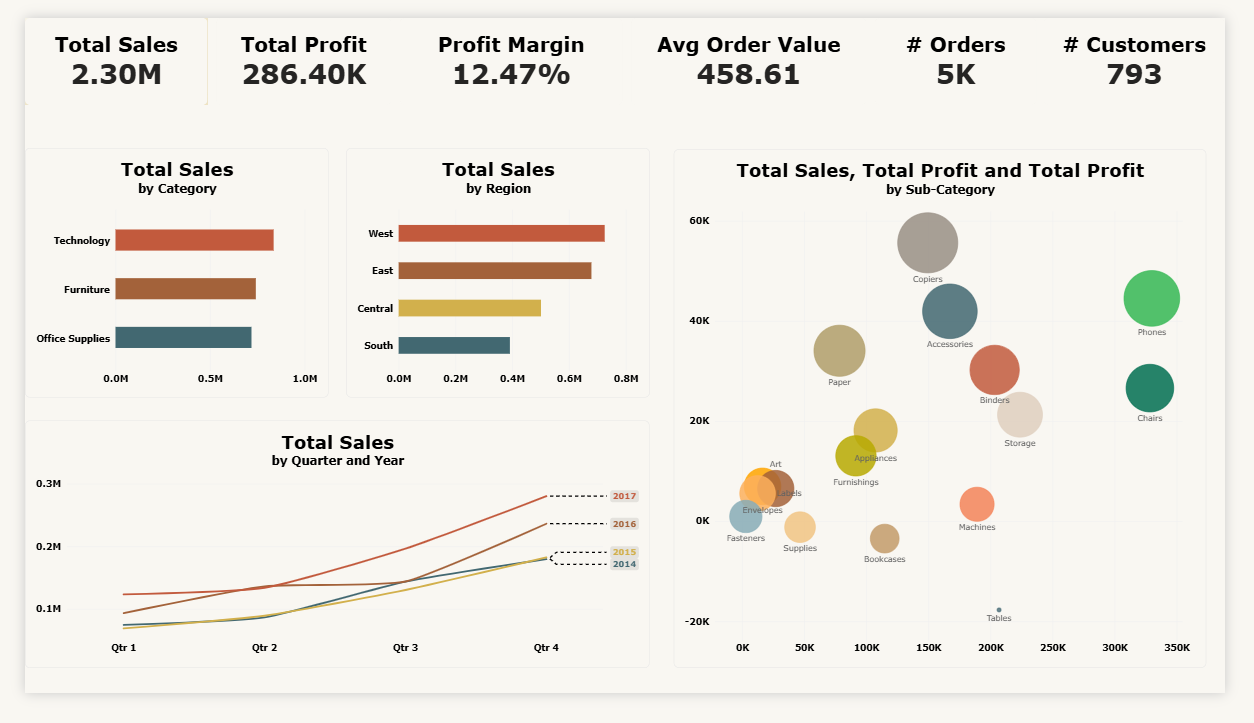

Layout of this report page (visuals, bound fields, positions):
{"tool":"powerbi","page":{"name":"Executive Overview","canvas":[1920,1080],"ordinal":0},"visuals":[{"type":"cardVisual","fields":{"Data":["Measures Table.Total Sales"]},"box":[0,0,292.9,139.2],"z":0},{"type":"cardVisual","fields":{"Data":["Measures Table.Total Profit"]},"box":[306.3,0,280.3,139.2],"z":1000},{"type":"cardVisual","fields":{"Data":["Measures Table.Profit Margin"]},"box":[600,0,356.2,139.2],"z":2000},{"type":"cardVisual","fields":{"Data":["Measures Table.Total Orders"]},"box":[1359.1,0,258.6,139.2],"z":3000},{"type":"cardVisual","fields":{"Data":["Measures Table.Total Customers"]},"box":[1630.7,0,289.3,139.2],"z":4000},{"type":"cardVisual","fields":{"Data":["Measures Table.Average Order Value"]},"box":[969.6,0,376.1,139.2],"z":5000},{"type":"lineChart","fields":{"Category":["Superstore.Order Date.Variation.Date Hierarchy.Year","Superstore.Order Date.Variation.Date Hierarchy.Quarter","Superstore.Order Date.Variation.Date Hierarchy.Month","Superstore.Order Date.Variation.Date Hierarchy.Day"],"Series":["Superstore.Order Date.Variation.Date Hierarchy.Year"],"Y":["Measures Table.Total Sales"]},"box":[0,643.8,999.4,395.7],"z":6000},{"type":"barChart","fields":{"Category":["Superstore.Category"],"Y":["Measures Table.Total Sales"]},"box":[14,208,485.6,399.5],"z":7000},{"type":"barChart","fields":{"Category":["Superstore.Region"],"Y":["Measures Table.Total Sales"]},"box":[514.9,208.9,485.6,399.5],"z":8000},{"type":"scatterChart","fields":{"Series":["Superstore.Sub-Category"],"Size":["Measures Table.Total Profit"],"X":["Measures Table.Total Sales"],"Y":["Measures Table.Total Profit"]},"box":[1037.7,209.7,851.7,829.8],"z":9000}]}

Visuals, with their boxes in screenshot pixels (x1, y1, x2, y2), scaled from the page's 1920x1080 canvas onto the 1254x723 screenshot:
cardVisual - Measures Table.Total Sales: <bbox>0, 0, 191, 93</bbox>
cardVisual - Measures Table.Total Profit: <bbox>200, 0, 383, 93</bbox>
cardVisual - Measures Table.Profit Margin: <bbox>392, 0, 625, 93</bbox>
cardVisual - Measures Table.Total Orders: <bbox>888, 0, 1057, 93</bbox>
cardVisual - Measures Table.Total Customers: <bbox>1065, 0, 1253, 93</bbox>
cardVisual - Measures Table.Average Order Value: <bbox>633, 0, 879, 93</bbox>
lineChart - Superstore.Order Date.Variation.Date Hierarchy.Year x Superstore.Order Date.Variation.Date Hierarchy.Quarter: <bbox>0, 431, 653, 696</bbox>
barChart - Superstore.Category x Measures Table.Total Sales: <bbox>9, 139, 326, 407</bbox>
barChart - Superstore.Region x Measures Table.Total Sales: <bbox>336, 140, 653, 407</bbox>
scatterChart - Superstore.Sub-Category x Measures Table.Total Profit: <bbox>678, 140, 1234, 696</bbox>
